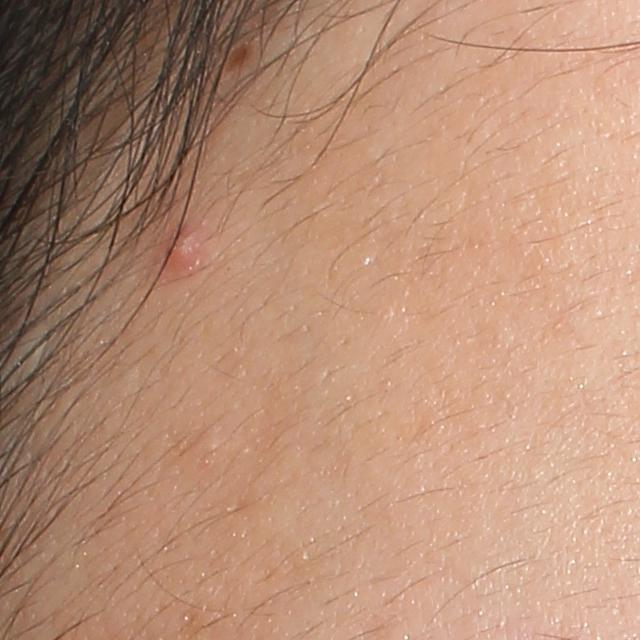papule: (158, 218, 207, 273)
